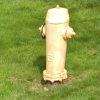a fire hydrant: (44, 7, 72, 83)
